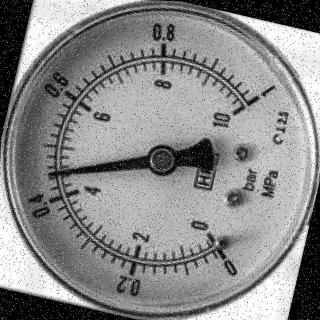gauge: (0, 0, 320, 320), (178, 204, 255, 282), (209, 69, 281, 141), (145, 143, 177, 177), (43, 166, 61, 180)
